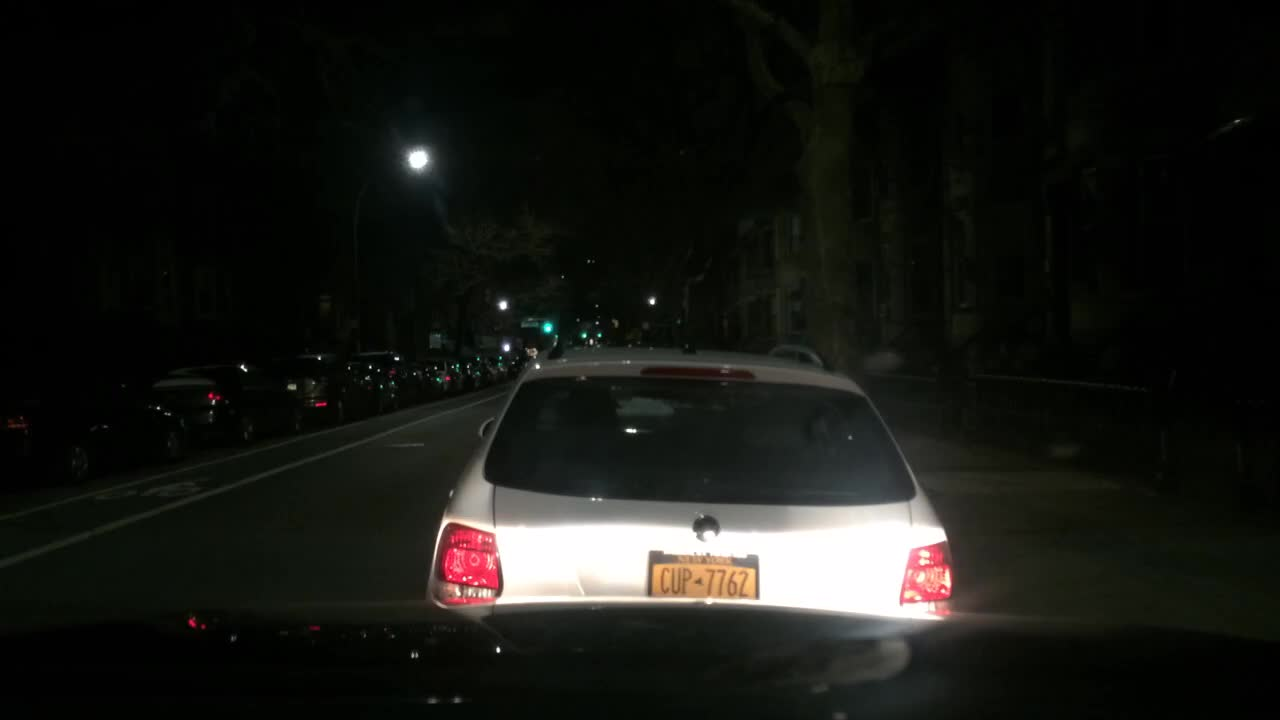car: (422, 338, 953, 621), (1, 373, 184, 479), (150, 361, 295, 444), (288, 353, 358, 422), (364, 346, 416, 401), (348, 363, 395, 408), (421, 359, 466, 391), (416, 368, 441, 398), (487, 353, 510, 380), (469, 361, 487, 385)
traffic light: (544, 321, 551, 334)
traffic sign: (520, 321, 536, 328)
